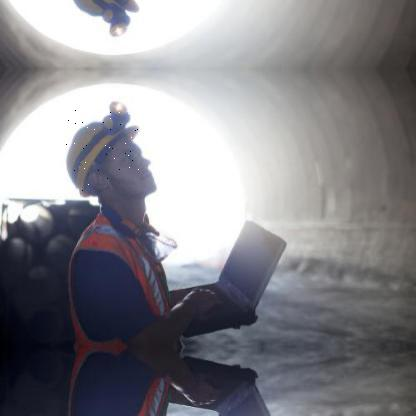safetyhelmet: (66, 108, 140, 194)
